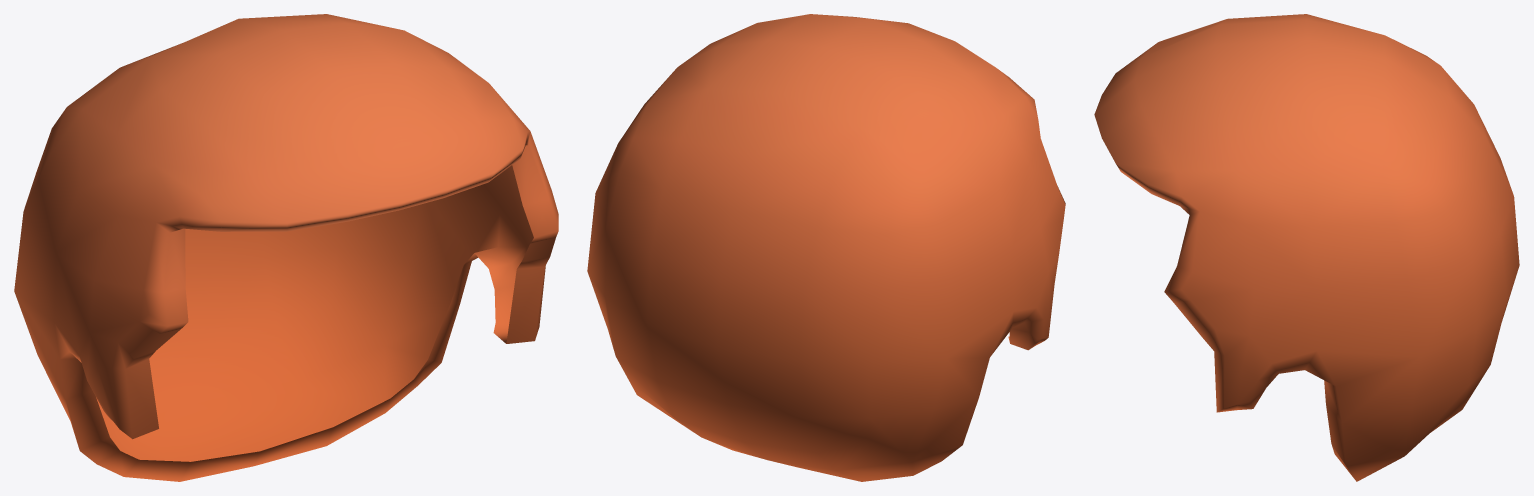
The model's file is Hair_11.fbx.
The picture shows the model from 3 angles, left to right: view 1: azimuth 30°, elevation 25°; view 2: azimuth 150°, elevation 25°; view 3: azimuth 270°, elevation 25°; orthographic projection. The views are drawn at different scales.
Parts seen in each view (by area): view 1: Hair_11; view 2: Hair_11; view 3: Hair_11.
Part boxes in pixels (<box>): Hair_11: <box>14,14,558,481</box>; Hair_11: <box>587,14,1065,481</box>; Hair_11: <box>1094,14,1519,481</box>.
Bounding box in the file's own units: 52.84 × 51.31 × 48.92.
